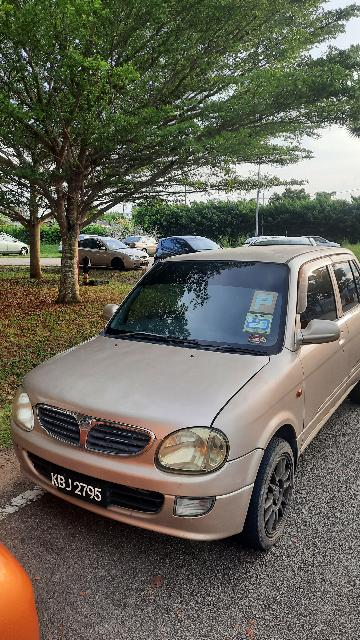License_Plate: (42, 464, 122, 513)
car: (7, 242, 360, 556)
